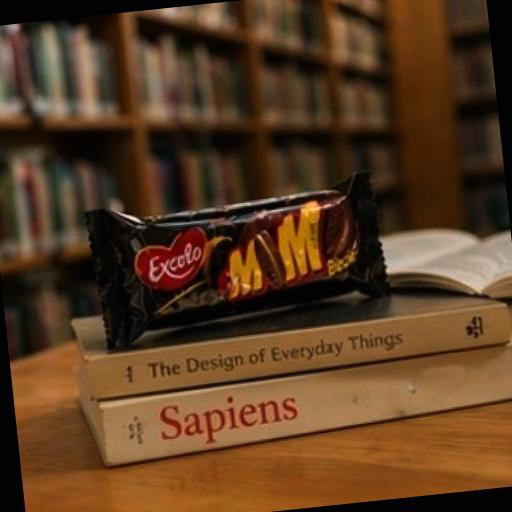MOMO: (54, 131, 404, 419)
